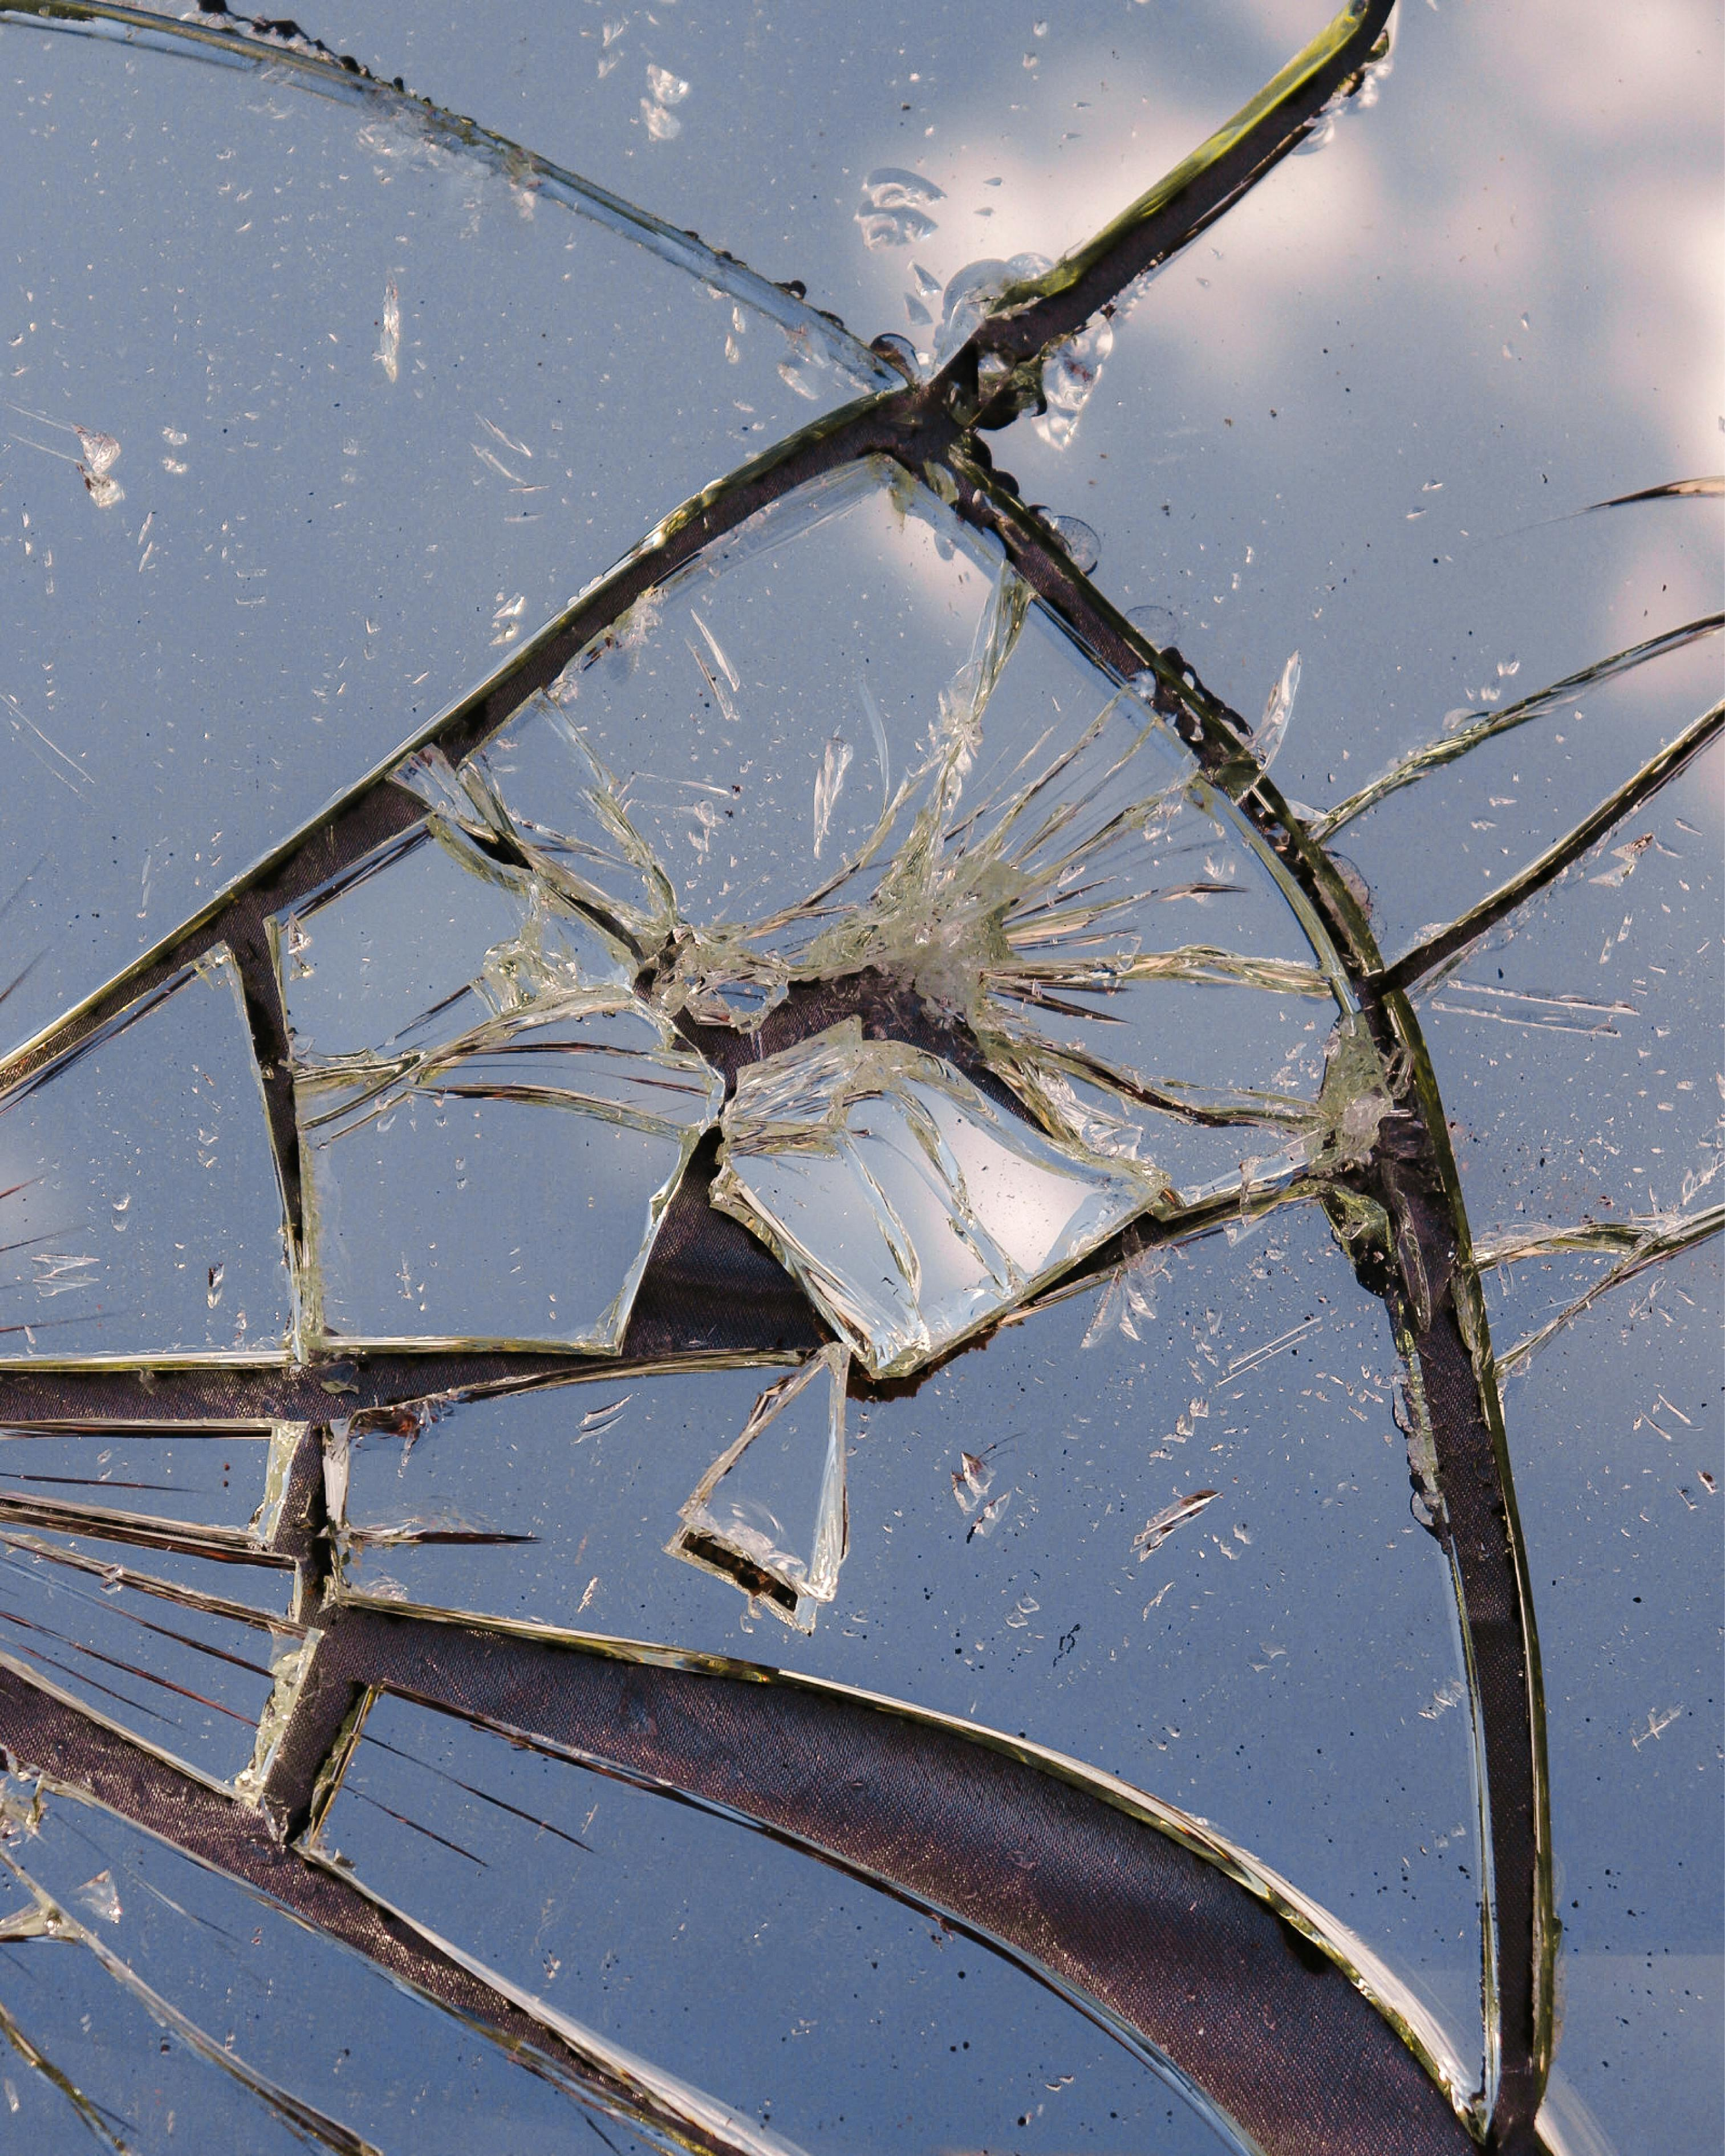glass: (172, 729, 1523, 1982), (278, 815, 720, 1331), (5, 959, 283, 1343), (1429, 447, 1706, 664), (1491, 461, 1723, 539), (2, 405, 125, 517)
